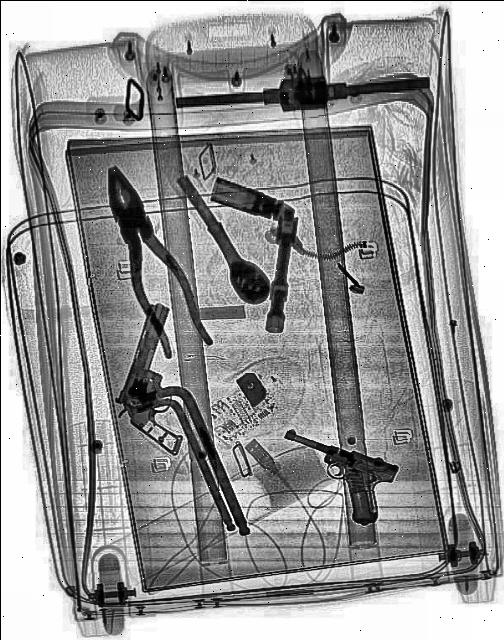Gun: (108, 298, 218, 454), (270, 421, 398, 529)
Pliers: (90, 152, 214, 366)
